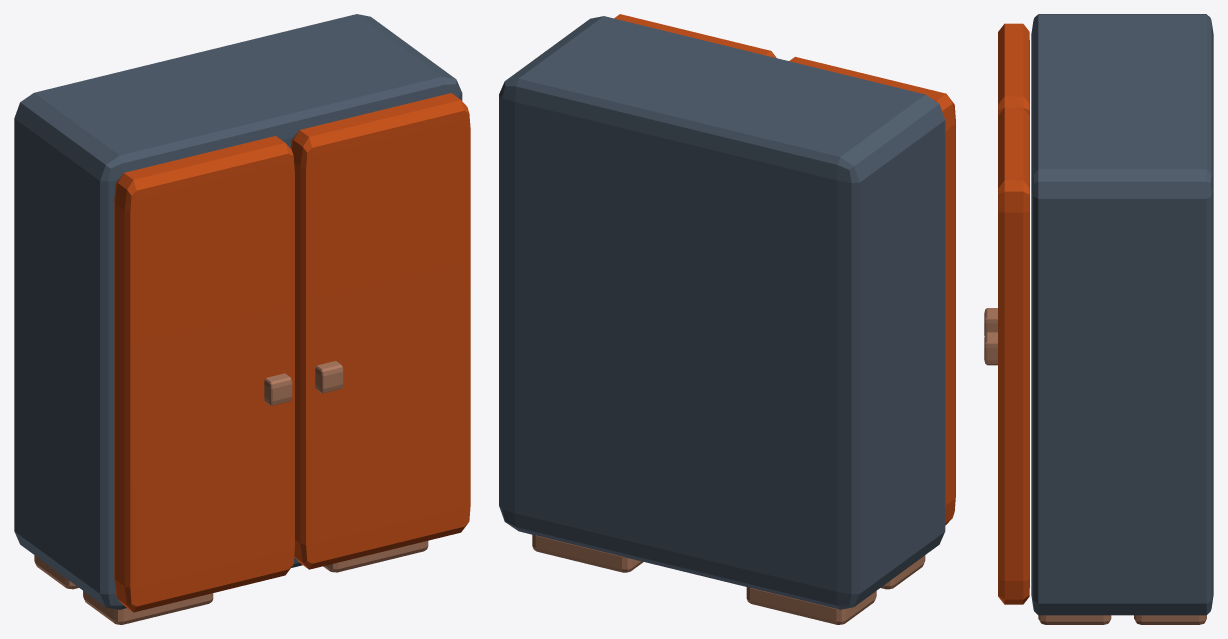
File: wardrobe_singlebedroom.fbx
3 views of the same model, side by side, from view 1: azimuth 30°, elevation 25°; view 2: azimuth 150°, elevation 25°; view 3: azimuth 270°, elevation 25° (orthographic).
Visible parts, largest first — view 1: Cube.022, wardrobe_singlebedroom, Cube.098; view 2: wardrobe_singlebedroom, Cube.022, Cube.098; view 3: wardrobe_singlebedroom, Cube.022, Cube.098.
Part boxes in pixels (x1,y1,x2,y2): Cube.022: (114,93,470,612); wardrobe_singlebedroom: (14,14,462,609); Cube.098: (34,361,428,624); wardrobe_singlebedroom: (499,16,945,609); Cube.022: (614,14,955,525); Cube.098: (532,534,925,624); wardrobe_singlebedroom: (1031,14,1213,615); Cube.022: (998,23,1029,604); Cube.098: (984,308,1206,624).
Size of the model in its own units: 159 by 198 by 88.89.
